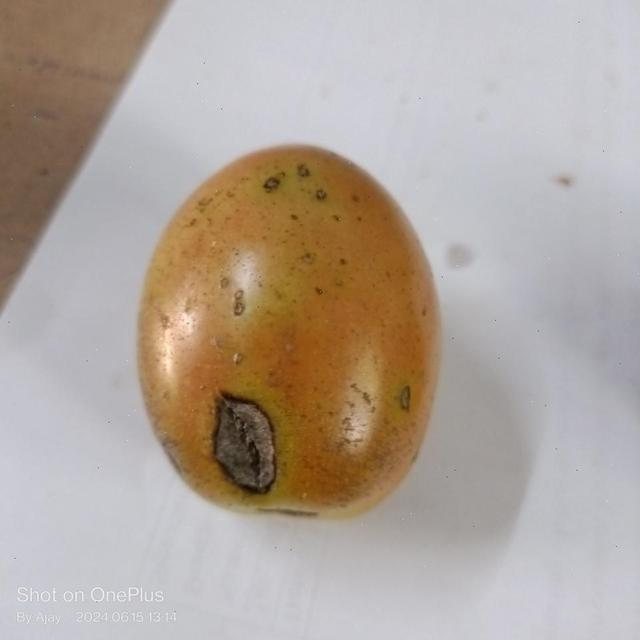Bacterial Spot Fruit: (13, 18, 272, 295)
